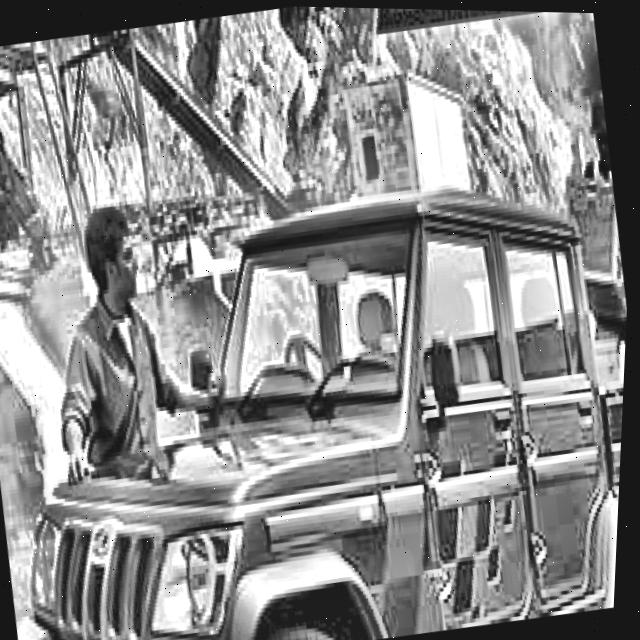light_vehicle: (0, 160, 634, 640)
